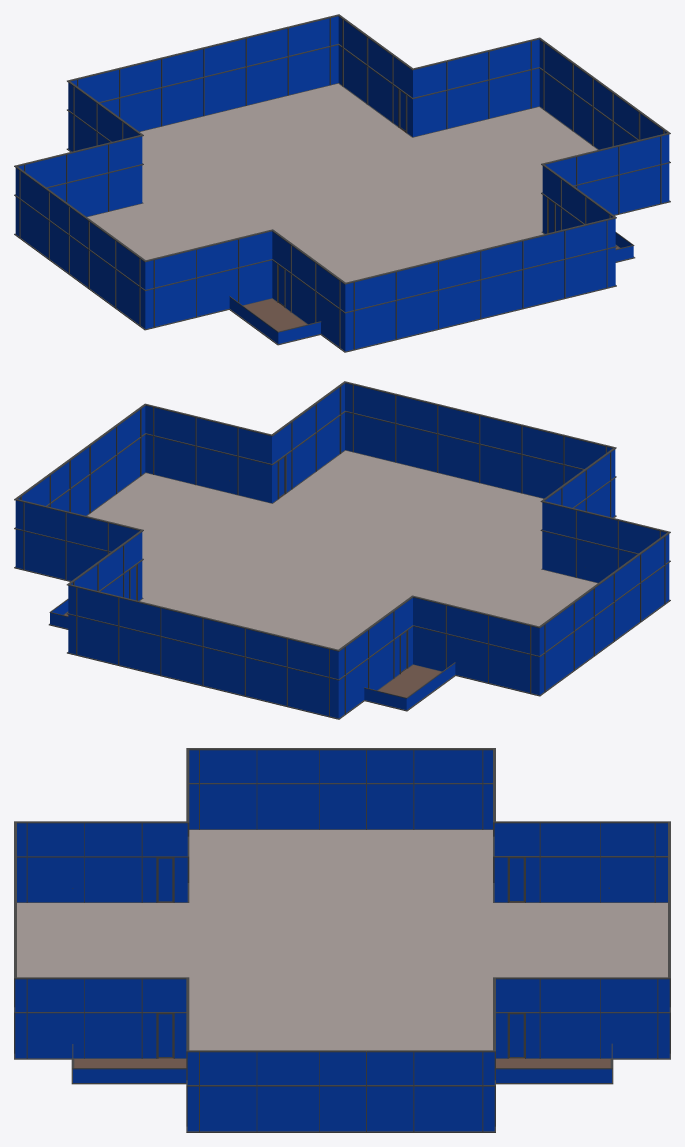
File: floor27.glb
The picture shows the model from 3 angles, top to bottom: view 1: azimuth 30°, elevation 25°; view 2: azimuth 150°, elevation 25°; view 3: azimuth 270°, elevation 25°; orthographic projection. The views are drawn at different scales.
Parts seen in each view (by area): view 1: Floor plans 27TH Window Glass, Floor plans 27TH (1), Floor plans 27TH Window Joinery; view 2: Floor plans 27TH Window Glass, Floor plans 27TH (1), Floor plans 27TH Window Joinery; view 3: Floor plans 27TH Window Glass, Floor plans 27TH (1), Floor plans 27TH Window Joinery.
Boxes of the visible parts, x1,y1,x2,y2 form: Floor plans 27TH Window Glass: (15, 16, 669, 351); Floor plans 27TH (1): (87, 83, 635, 345); Floor plans 27TH Window Joinery: (14, 14, 670, 352); Floor plans 27TH Window Glass: (15, 383, 669, 718); Floor plans 27TH (1): (48, 450, 597, 711); Floor plans 27TH Window Joinery: (14, 381, 670, 719); Floor plans 27TH Window Glass: (15, 750, 669, 1131); Floor plans 27TH (1): (17, 830, 667, 1084); Floor plans 27TH Window Joinery: (14, 748, 670, 1132).
Size of the model in its own units: 38.04 by 4.76 by 34.82.
